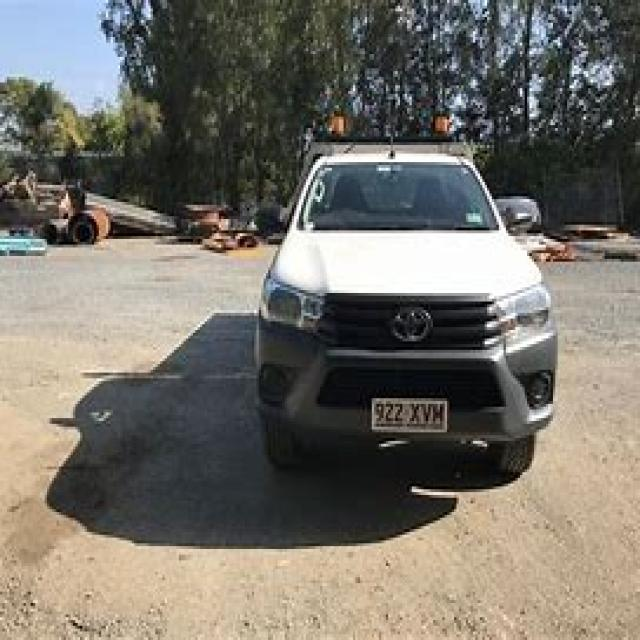light_vehicle: (254, 108, 565, 492)
